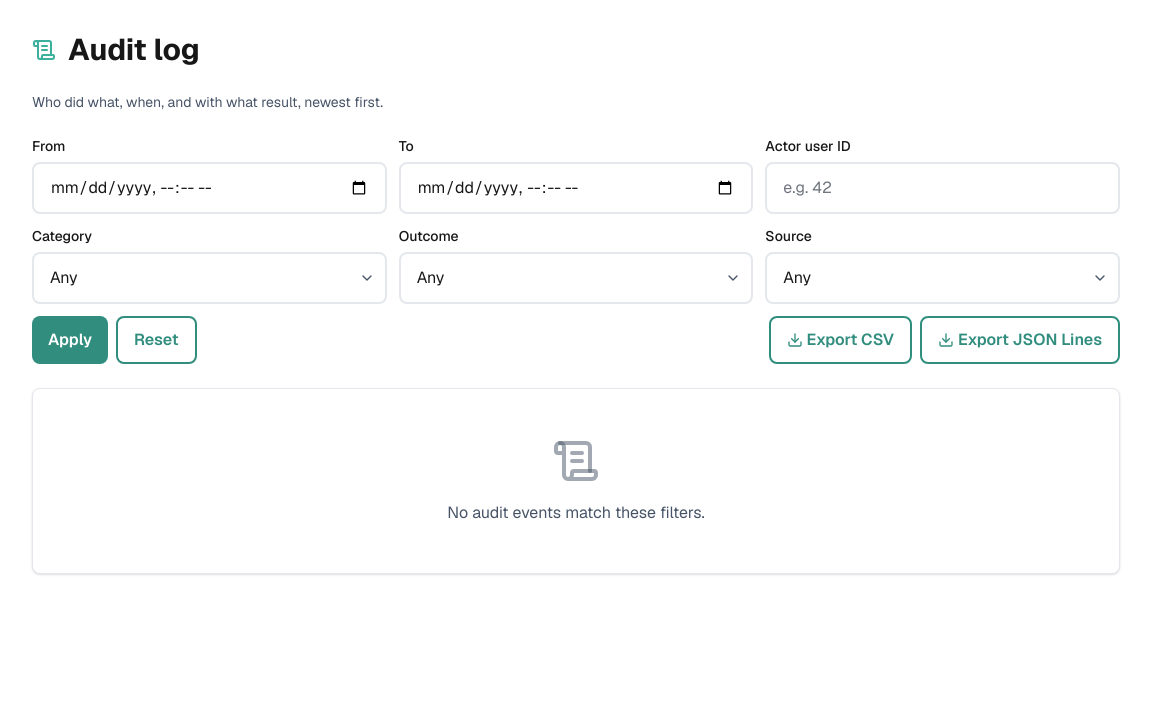
Test: AuditLogPage › flags a range that ends before it starts and won't apply it
Check: the text "No audit events match these filters." is shown, box [447,502,705,523]
Type "2026-10-20T10:30" into the field labelled "From" at (209, 188), box [32,162,387,214]
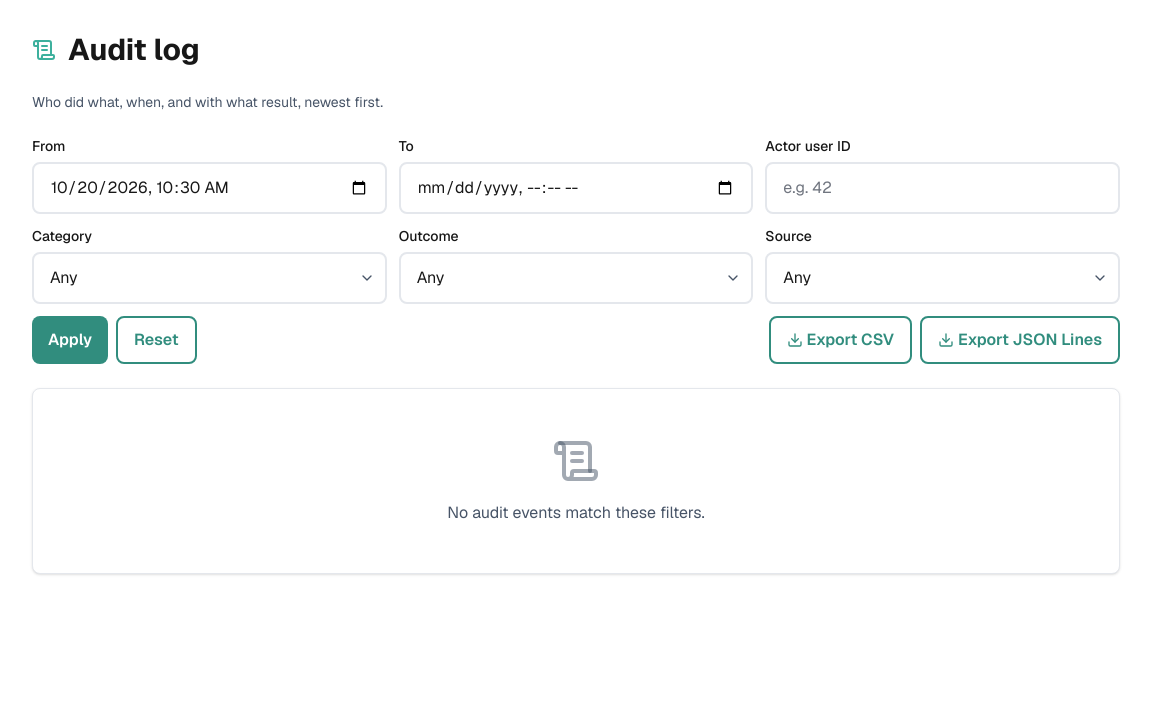
Type "2026-10-20T10:29" into the field labelled "To" at (576, 188), box [399,162,753,214]
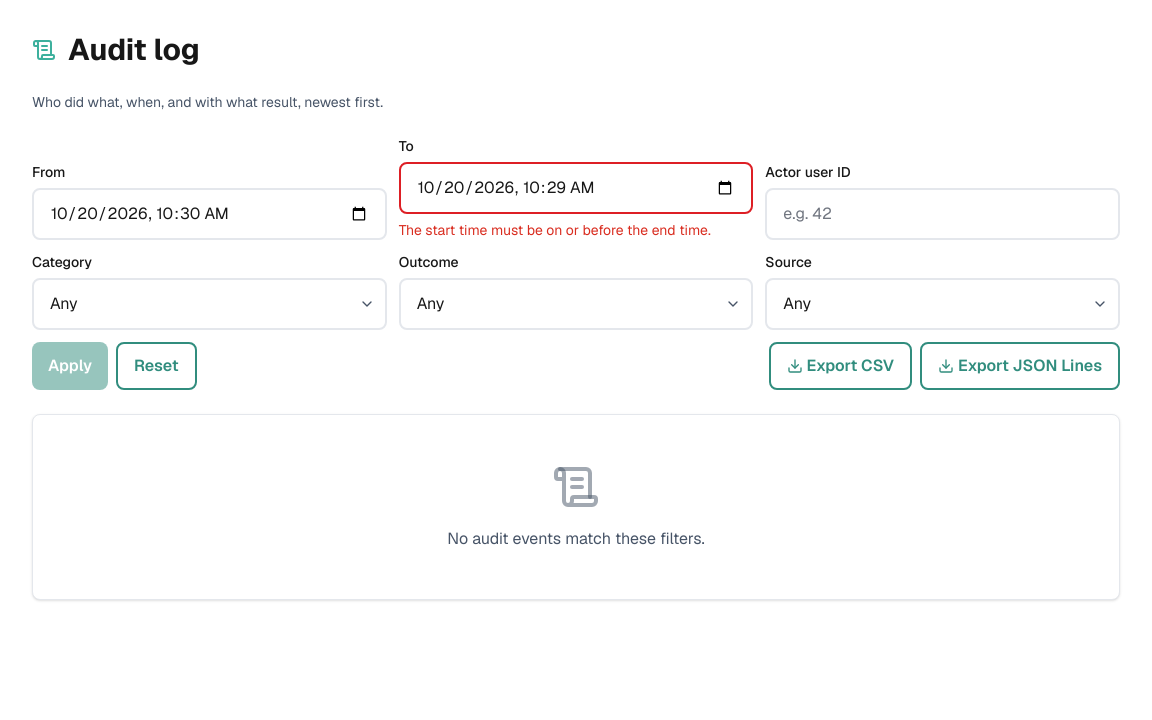
Check: the text "The start time must be on or before the end time." is shown, box [399,220,753,240]
Check: the button "Apply" is disabled, box [32,342,108,390]
